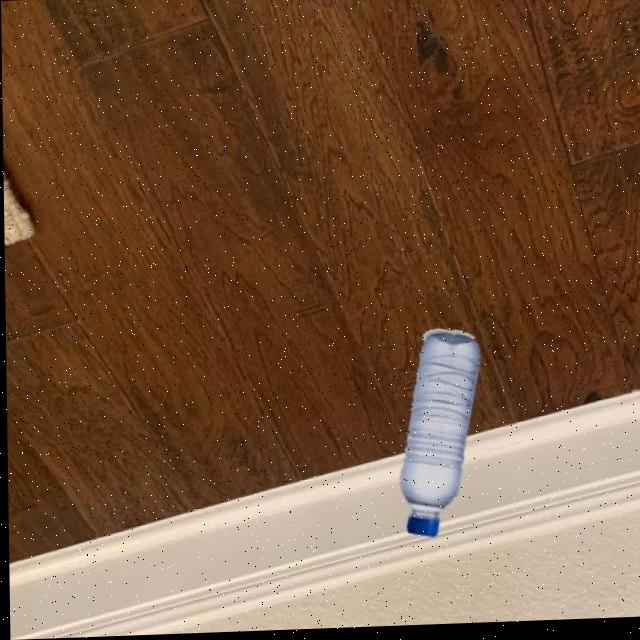bottle: (396, 330, 483, 544)
